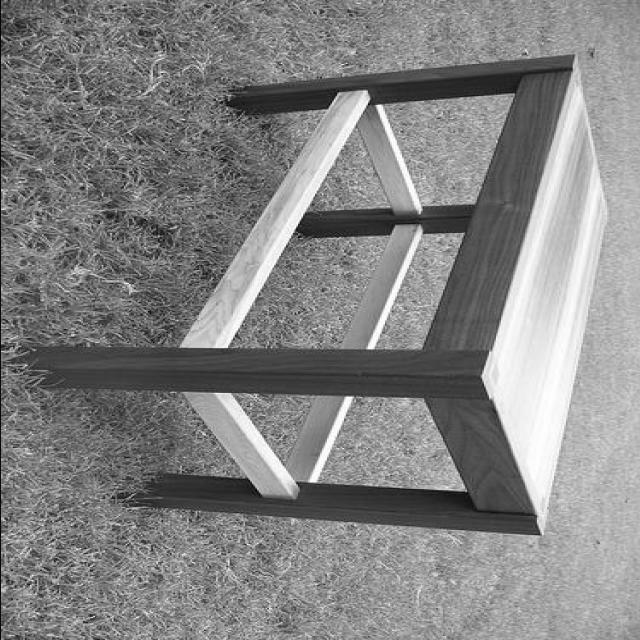table: (30, 54, 608, 538)
